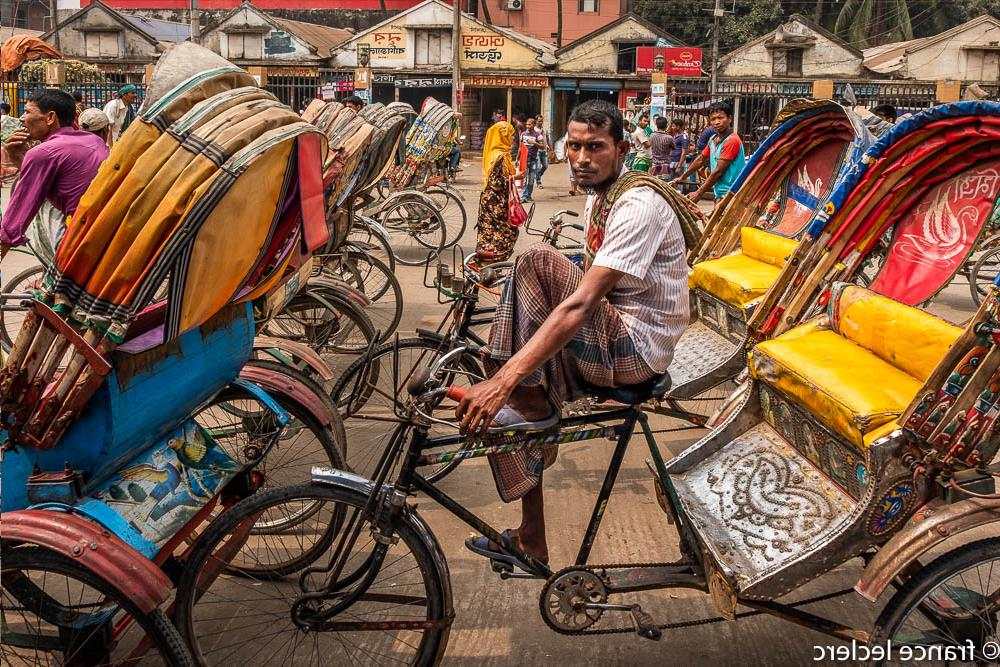Rickshaw: (307, 57, 982, 644), (3, 61, 334, 626), (693, 80, 874, 400), (284, 77, 397, 365)
